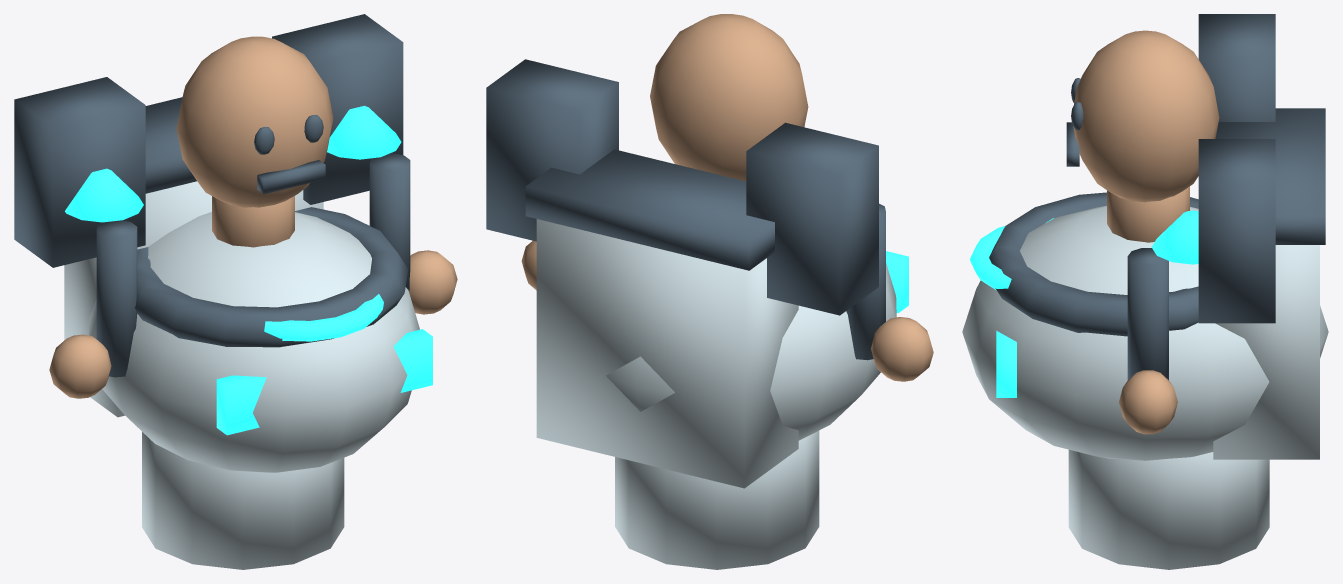
The model's file is porcelain-raider-sonic-v001.glb.
3 views of the same model, side by side, from view 1: azimuth 30°, elevation 25°; view 2: azimuth 150°, elevation 25°; view 3: azimuth 270°, elevation 25° (orthographic).
Parts seen in each view (by area): view 1: bowl, pedestal, head, speaker-case-left, rim, speaker-case-right, tank, arm-left, energy-band, arm-right, tank-lid, neck (+6 smaller); view 2: tank, speaker-case-left, pedestal, head, tank-lid, speaker-case-right, bowl, hand-left, arm-left, energy-band, hand-right; view 3: bowl, pedestal, head, speaker-case-right, tank, rim, tank-lid, speaker-case-left, arm-right, neck, hand-right, speaker-cone-right (+3 smaller).
Part boxes in pixels (x1=…): bowl: x1=89, y1=212, x2=419, y2=472; pedestal: x1=142, y1=432, x2=344, y2=569; head: x1=176, y1=36, x2=333, y2=207; speaker-case-left: x1=14, y1=77, x2=145, y2=267; rim: x1=135, y1=207, x2=408, y2=347; speaker-case-right: x1=272, y1=14, x2=403, y2=204; tank: x1=64, y1=181, x2=323, y2=417; arm-left: x1=96, y1=220, x2=137, y2=377; energy-band: x1=216, y1=329, x2=432, y2=435; arm-right: x1=369, y1=153, x2=410, y2=291; tank-lid: x1=145, y1=97, x2=196, y2=193; neck: x1=212, y1=196, x2=294, y2=247; tank: x1=536, y1=219, x2=798, y2=488; speaker-case-left: x1=746, y1=122, x2=878, y2=315; pedestal: x1=615, y1=430, x2=819, y2=569; head: x1=650, y1=14, x2=808, y2=181; tank-lid: x1=525, y1=149, x2=774, y2=270; speaker-case-right: x1=486, y1=59, x2=618, y2=241; bowl: x1=606, y1=263, x2=896, y2=440; hand-left: x1=871, y1=317, x2=933, y2=381; arm-left: x1=846, y1=203, x2=885, y2=360; energy-band: x1=886, y1=251, x2=908, y2=313; hand-right: x1=521, y1=241, x2=536, y2=290; bowl: x1=962, y1=205, x2=1328, y2=460; pedestal: x1=1068, y1=449, x2=1269, y2=569; head: x1=1073, y1=30, x2=1219, y2=202; speaker-case-right: x1=1198, y1=139, x2=1275, y2=323; tank: x1=1213, y1=245, x2=1319, y2=459; rim: x1=989, y1=192, x2=1198, y2=336; tank-lid: x1=1215, y1=108, x2=1325, y2=244; speaker-case-left: x1=1198, y1=14, x2=1275, y2=121; arm-right: x1=1127, y1=248, x2=1168, y2=379; neck: x1=1107, y1=186, x2=1189, y2=242; hand-right: x1=1119, y1=370, x2=1177, y2=434; speaker-cone-right: x1=1151, y1=210, x2=1198, y2=264.
Bounding box in the file's own units: 1.55 × 1.83 × 1.24.
